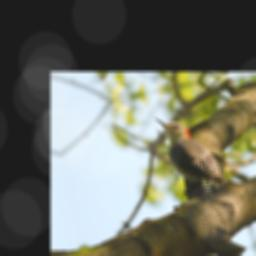Woodpecker: (154, 107, 227, 210)
